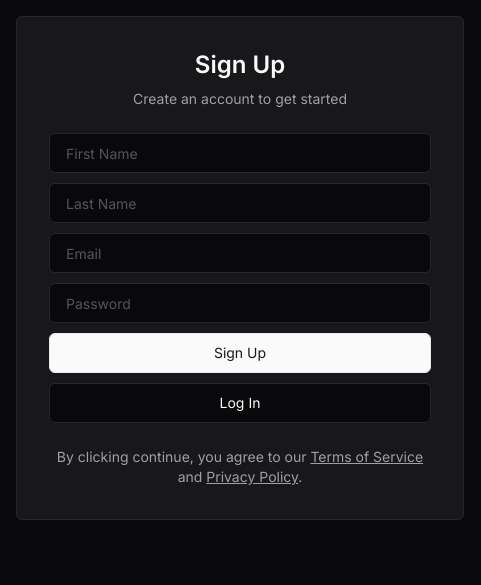
Test: Signup Page Tests › should show validation error for short names
In the field with placeholder "First Name": (240, 153) [49,133,431,173], type "A"
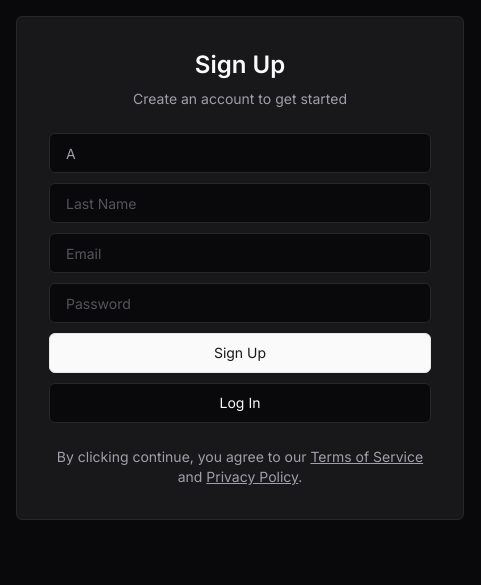
In the field with placeholder "Last Name": (240, 203) [49,183,431,223], type "B"
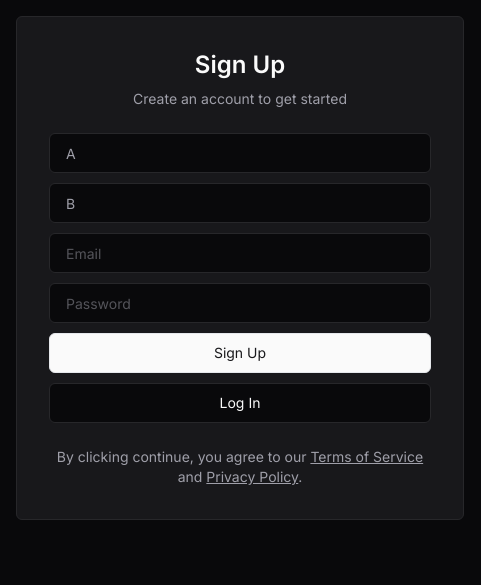
In the field with placeholder "Email": (240, 253) [49,233,431,273], type "test@example.com"
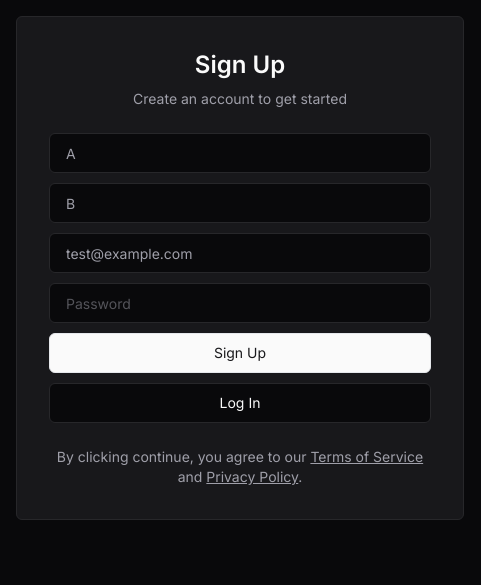
In the password field with placeholder "Password": (240, 303) [49,283,431,323], type "password123"
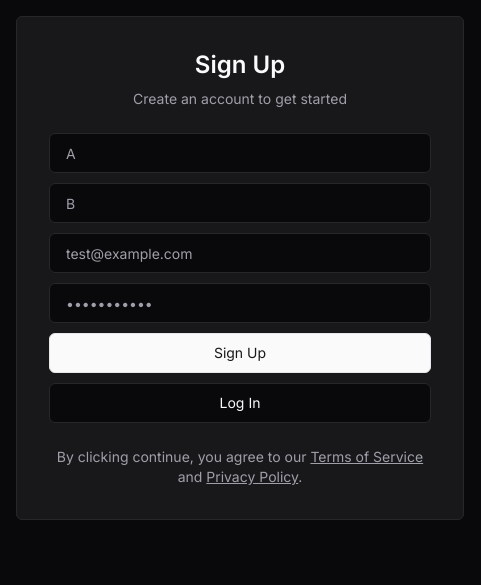
Click the button "Sign Up": (240, 353) [49,333,431,373]
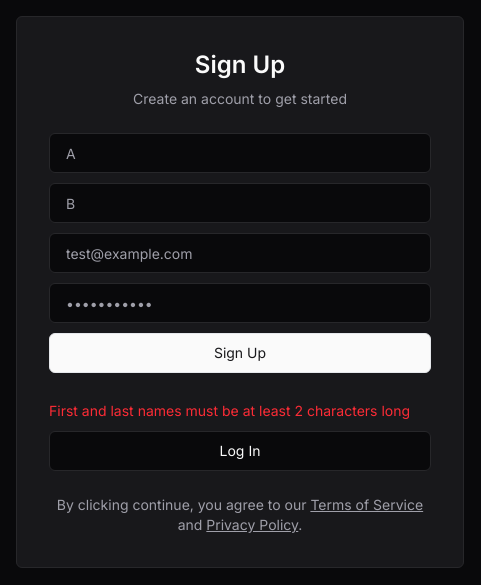
Check: the text "First and last names must be at least 2 characters long" is shown, box [49,401,431,421]
